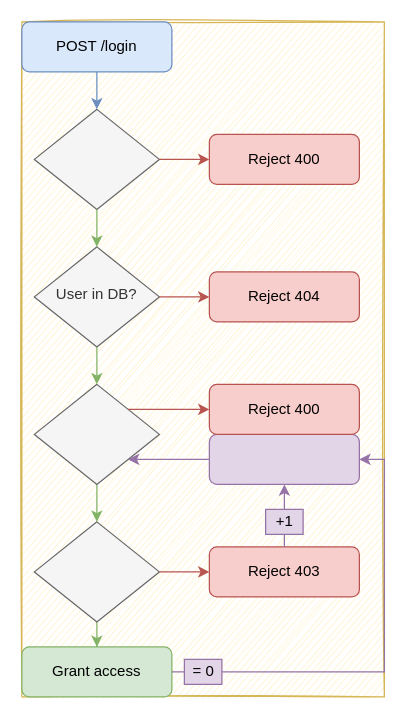
The diagram is 416 pixels wide and 719 high, and some of its shapes have lost their labels. The box of each missing label's shape, as (x1, y1, x2, y2) in pixels:
[COUNTER] TRIES: (208, 433, 359, 484)
Body OK?: (33, 108, 159, 209)
PWD OK?: (33, 521, 159, 622)
TRIES > 5?: (33, 383, 159, 484)
